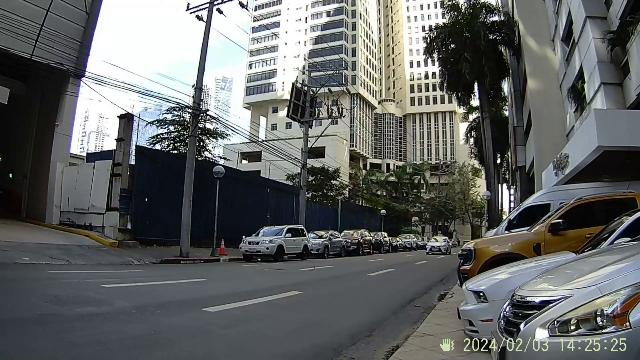car: (466, 196, 638, 360), (236, 222, 304, 258), (332, 226, 372, 256), (308, 228, 348, 256), (412, 234, 456, 255), (355, 231, 393, 254), (375, 234, 417, 254)
lamp_post: (200, 162, 228, 261)
utility_post: (283, 77, 349, 235), (177, 0, 209, 264)
